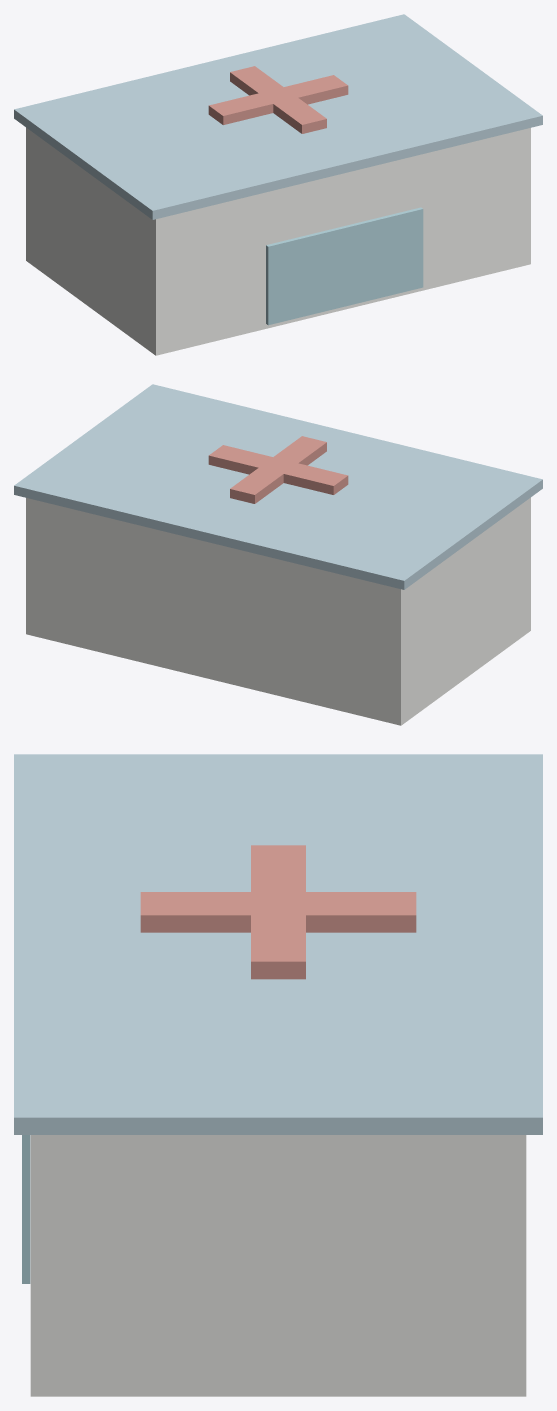
File: hospital_rabbit_hole.glb
3 views of the same model, one above another, from view 1: azimuth 30°, elevation 25°; view 2: azimuth 150°, elevation 25°; view 3: azimuth 270°, elevation 25° (orthographic). The views are drawn at different scales.
Visible parts, largest first — view 1: part_00, part_01, part_02, part_04, part_03; view 2: part_00, part_01, part_04, part_03; view 3: part_01, part_00, part_03, part_04, part_02.
Boxes of the visible parts, x1,y1,x2,y2 form: part_00: [26, 127, 530, 355]; part_01: [14, 14, 542, 219]; part_02: [266, 207, 423, 325]; part_04: [208, 75, 348, 124]; part_03: [230, 66, 326, 133]; part_00: [26, 497, 530, 725]; part_01: [14, 384, 542, 589]; part_04: [208, 445, 348, 494]; part_03: [230, 436, 326, 503]; part_01: [14, 754, 542, 1134]; part_00: [30, 1135, 526, 1396]; part_03: [140, 892, 416, 932]; part_04: [251, 845, 305, 979]; part_02: [22, 1135, 30, 1283].
Size of the model in its own units: 15.6 by 6.38 by 9.6.
